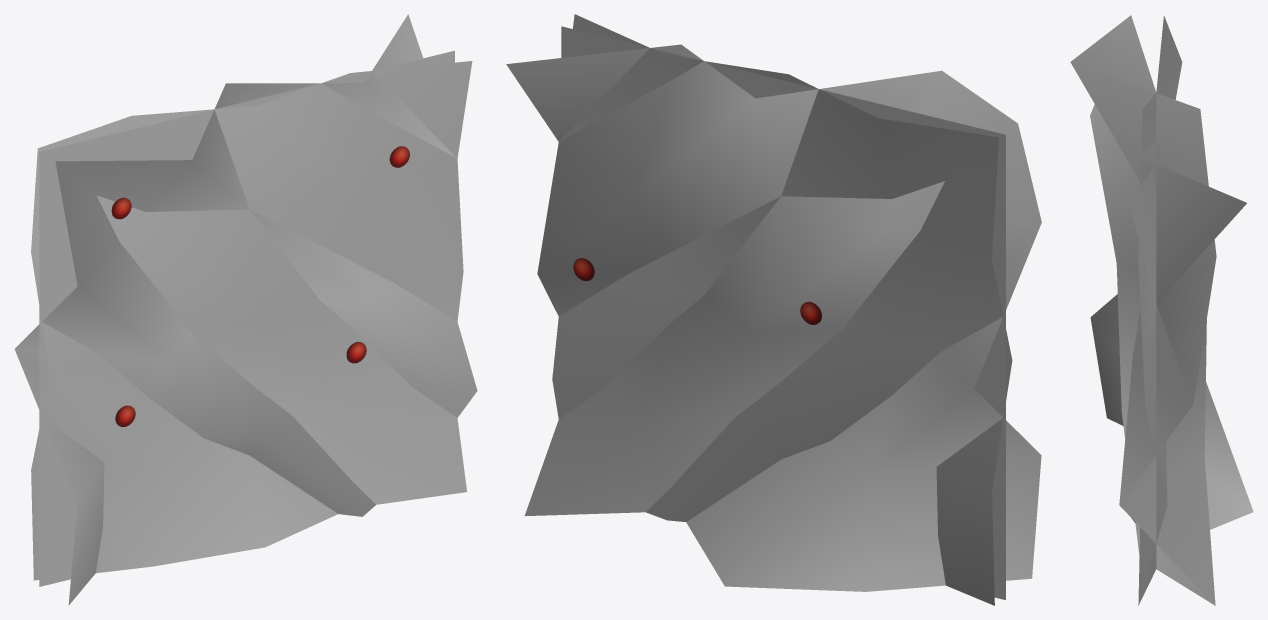
File: tomato.fbx
3 renders of one model, left to right at view 1: azimuth 30°, elevation 25°; view 2: azimuth 150°, elevation 25°; view 3: azimuth 270°, elevation 25°, orthographic. The views are drawn at different scales.
Parts seen in each view (by area): view 1: tomato_leaves, tomato_fruit; view 2: tomato_leaves, tomato_fruit; view 3: tomato_leaves.
Boxes of the visible parts, left/top/right/bottom form: tomato_leaves: left=14, top=14, right=477, bottom=605; tomato_fruit: left=111, top=146, right=409, bottom=426; tomato_leaves: left=506, top=14, right=1041, bottom=605; tomato_fruit: left=573, top=258, right=821, bottom=324; tomato_leaves: left=1070, top=15, right=1253, bottom=605.
Size of the model in its own units: 2.01 by 2 by 0.8249.
